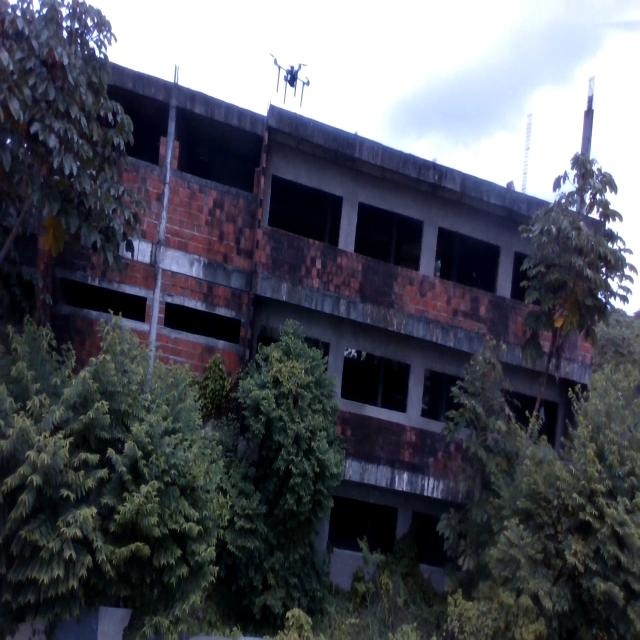-uav-: (268, 46, 312, 111)
